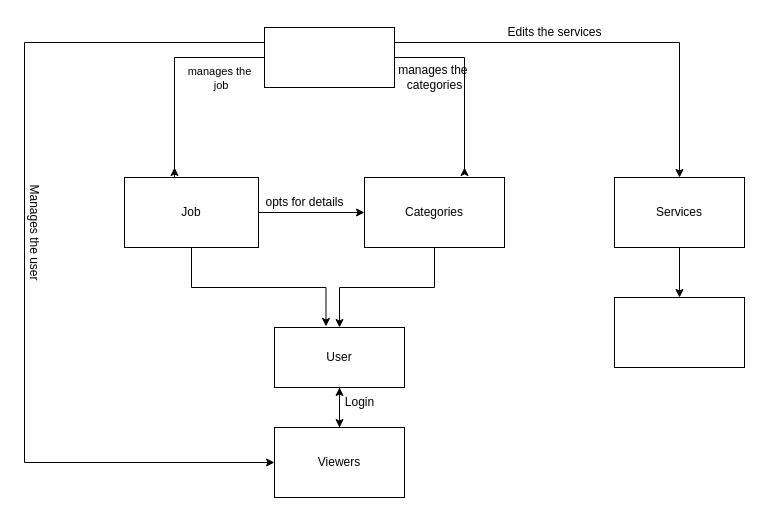
Image size: 762x515. Some labels were removed from this diagram. The centre of each missing label's shape, as x and y in pixels:
Admin: pixel 329 57
Payment: pixel 679 332
